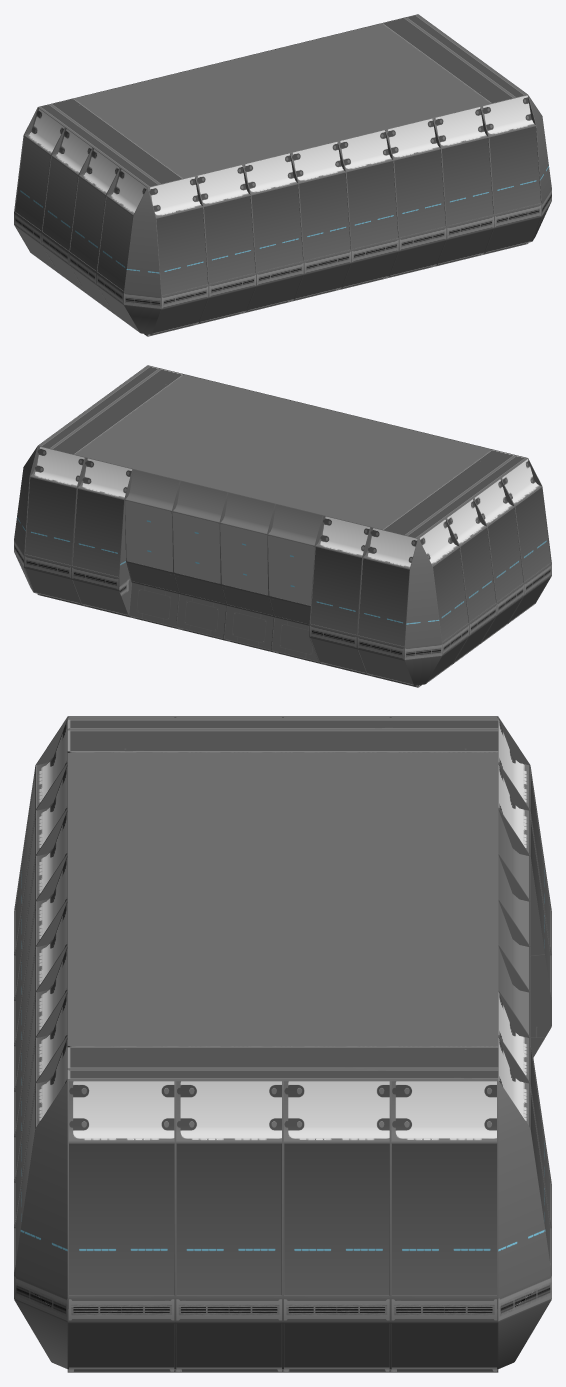
Rendered from WallsAssembly.fbx.
The picture shows the model from 3 angles, top to bottom: view 1: azimuth 30°, elevation 25°; view 2: azimuth 150°, elevation 25°; view 3: azimuth 270°, elevation 25°; orthographic projection. The views are drawn at different scales.
Parts seen in each view (by area): view 1: WallsAssembly; view 2: WallsAssembly; view 3: WallsAssembly.
Boxes of the visible parts, <box> form: WallsAssembly: <box>14,14,551,336</box>; WallsAssembly: <box>14,365,551,687</box>; WallsAssembly: <box>14,716,551,1372</box>.
Size of the model in its own units: 900 by 300 by 500.
